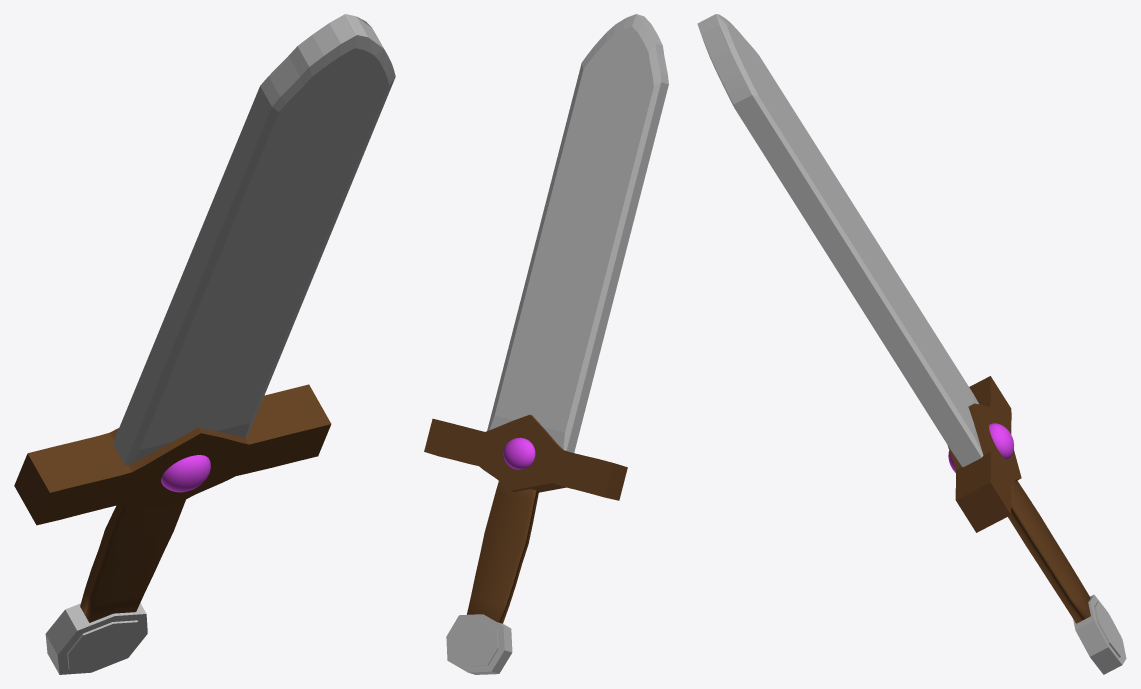
Rendered from Sword.fbx.
The picture shows the model from 3 angles, left to right: view 1: azimuth 30°, elevation 25°; view 2: azimuth 150°, elevation 25°; view 3: azimuth 270°, elevation 25°; orthographic projection. The views are drawn at different scales.
Visible parts, largest first — view 1: Cube.008; view 2: Cube.008; view 3: Cube.008.
Part boxes in pixels (bbox=[...]): Cube.008: bbox=[14, 14, 395, 674]; Cube.008: bbox=[424, 14, 668, 674]; Cube.008: bbox=[697, 14, 1126, 674].
Bounding box in the file's own units: 113 × 323 × 192.
